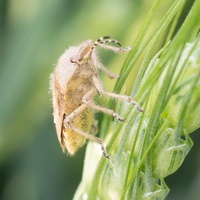insect: (50, 36, 143, 158)
